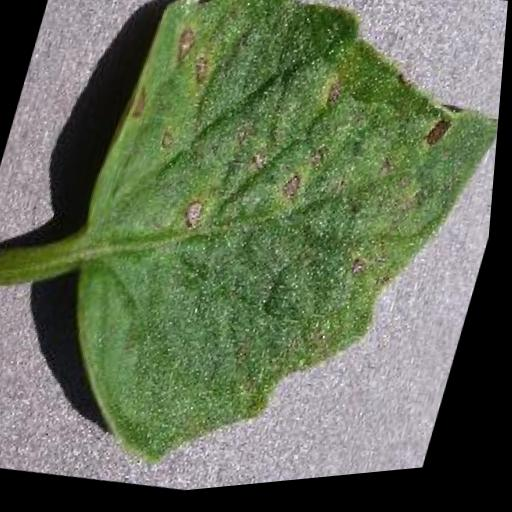Septoria: (19, 0, 512, 508)
